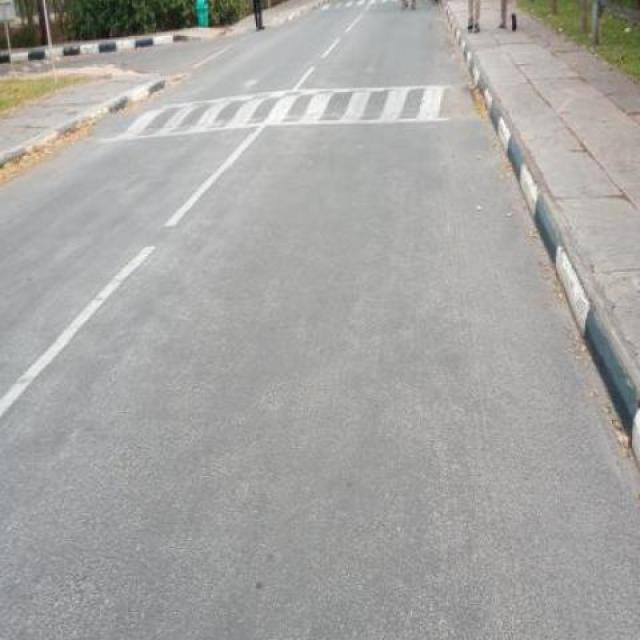Speed Bump: (93, 79, 480, 138)
